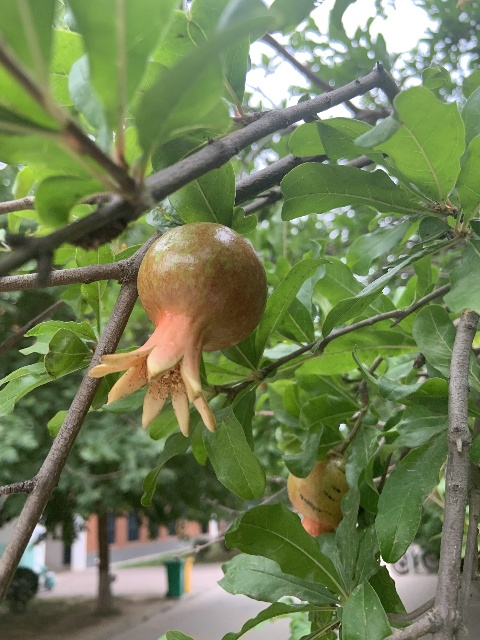early-fruit: (88, 221, 268, 437), (287, 450, 350, 537)
